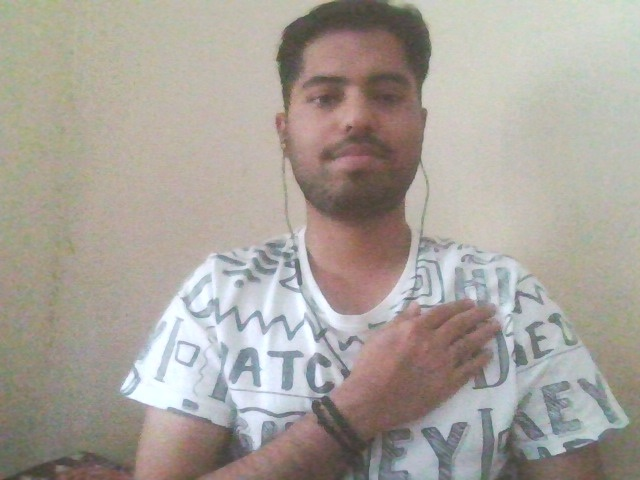Please: (334, 270, 510, 462)
